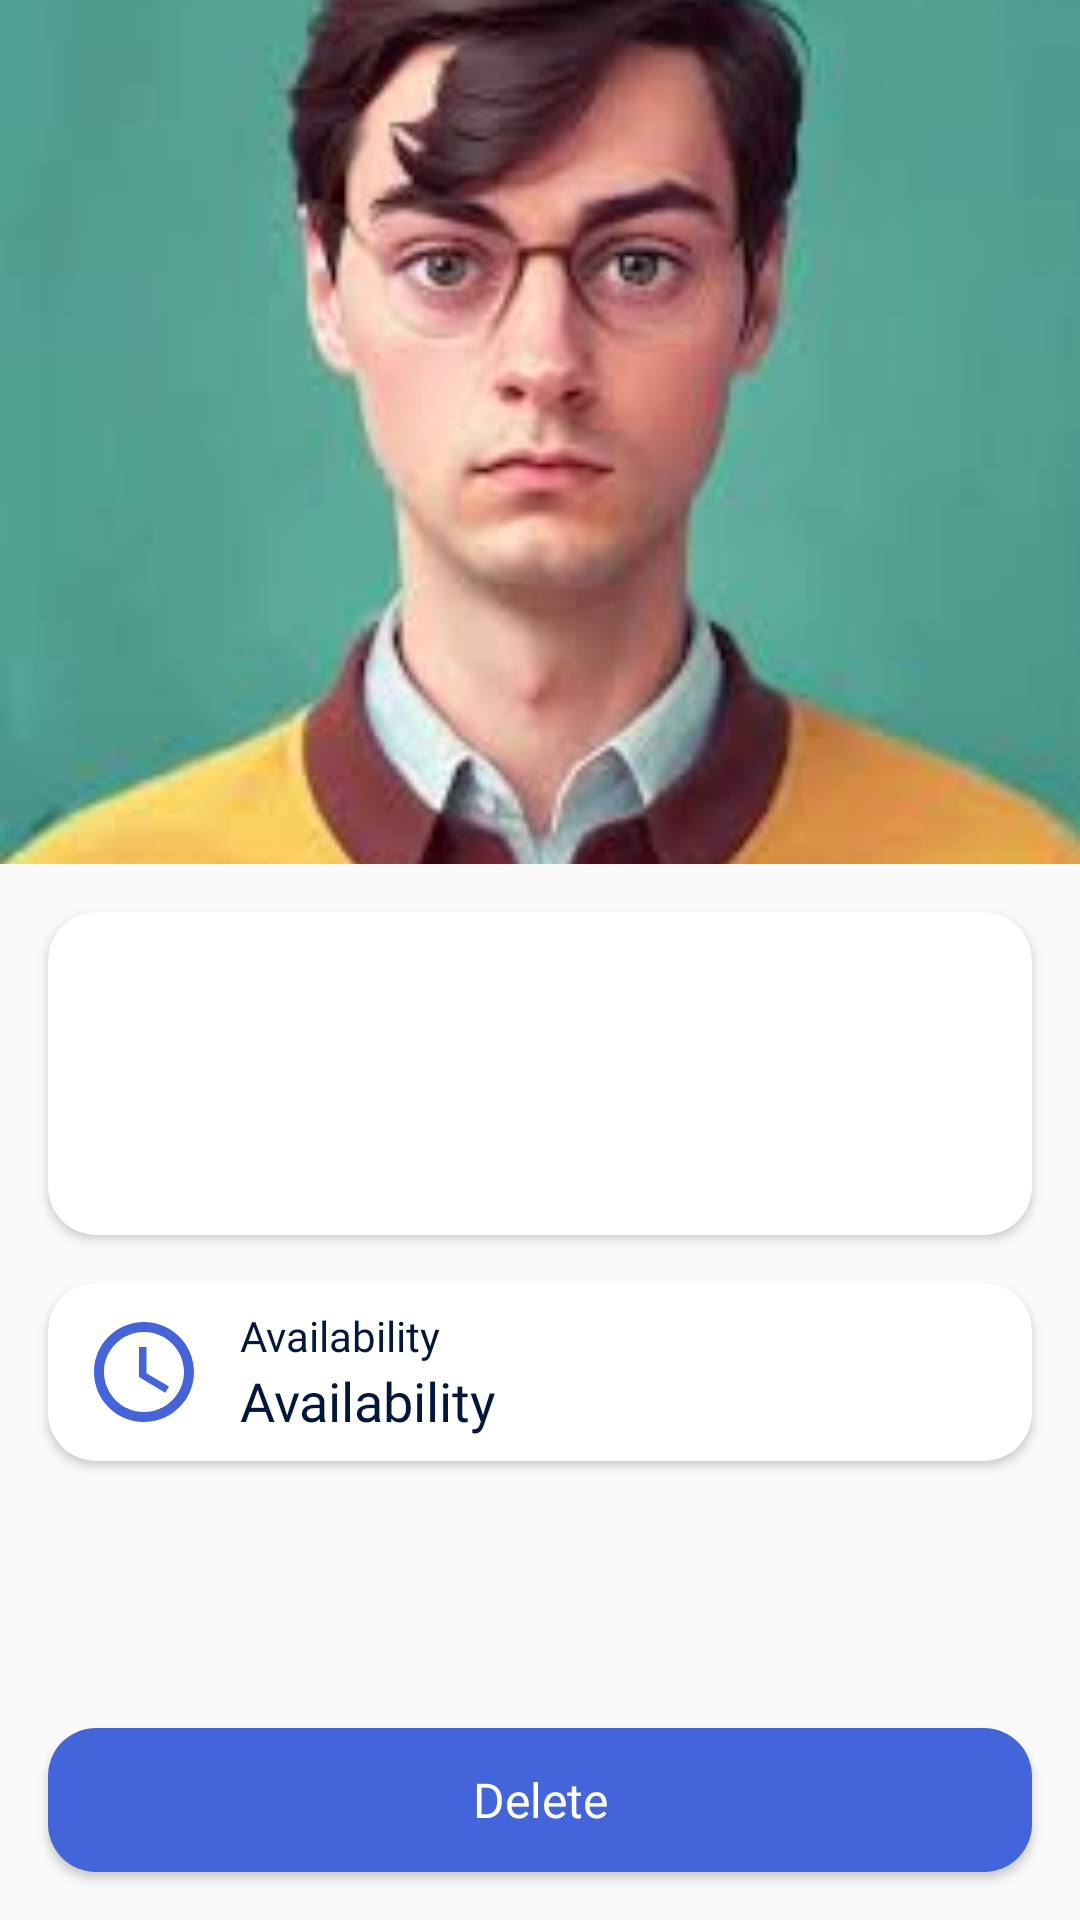

Screen size 1080 x 1920. Icon name, then its box in pixels as (x1, y1, x2, y2):
access time: (94, 1322, 194, 1422)
